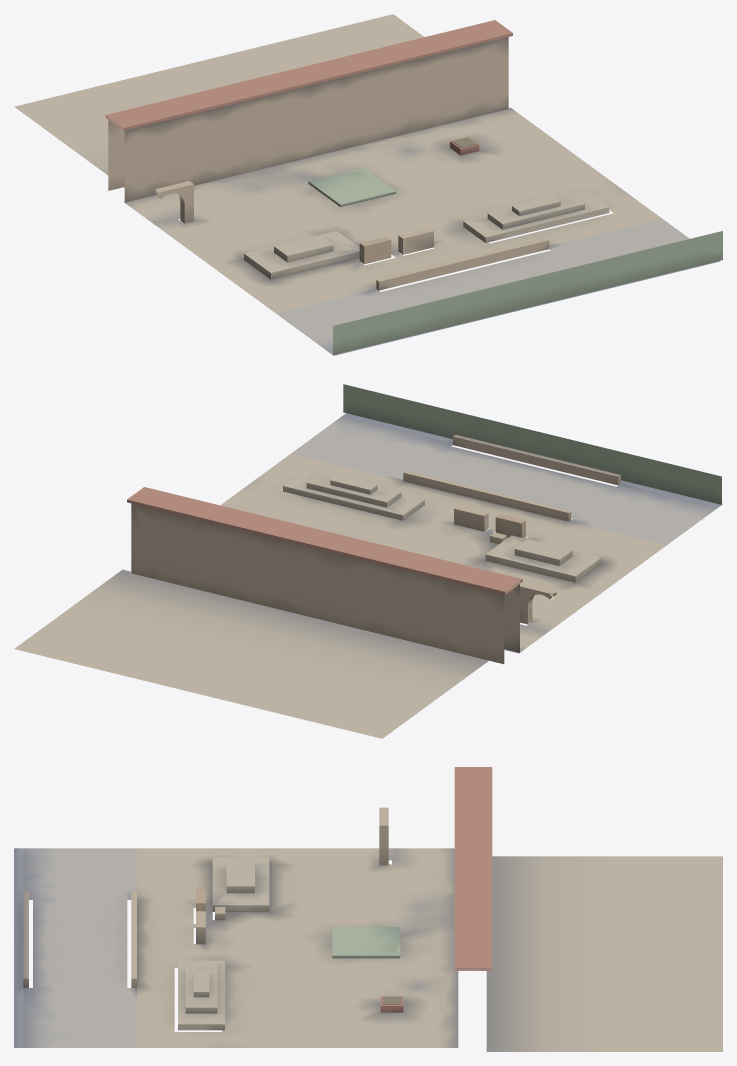
The picture shows the model from 3 angles, top to bottom: view 1: azimuth 30°, elevation 25°; view 2: azimuth 150°, elevation 25°; view 3: azimuth 270°, elevation 25°; orthographic projection. The views are drawn at different scales.
Parts seen in each view (by area): view 1: t; view 2: t; view 3: t.
Part boxes in pixels (x1,y1,x2,y2): t: (14,14,722,355); t: (14,384,722,738); t: (14,767,722,1051).
Size of the model in its own units: 51.27 by 9.35 by 75.
